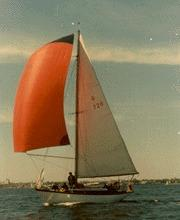Ship: (12, 31, 139, 205)
